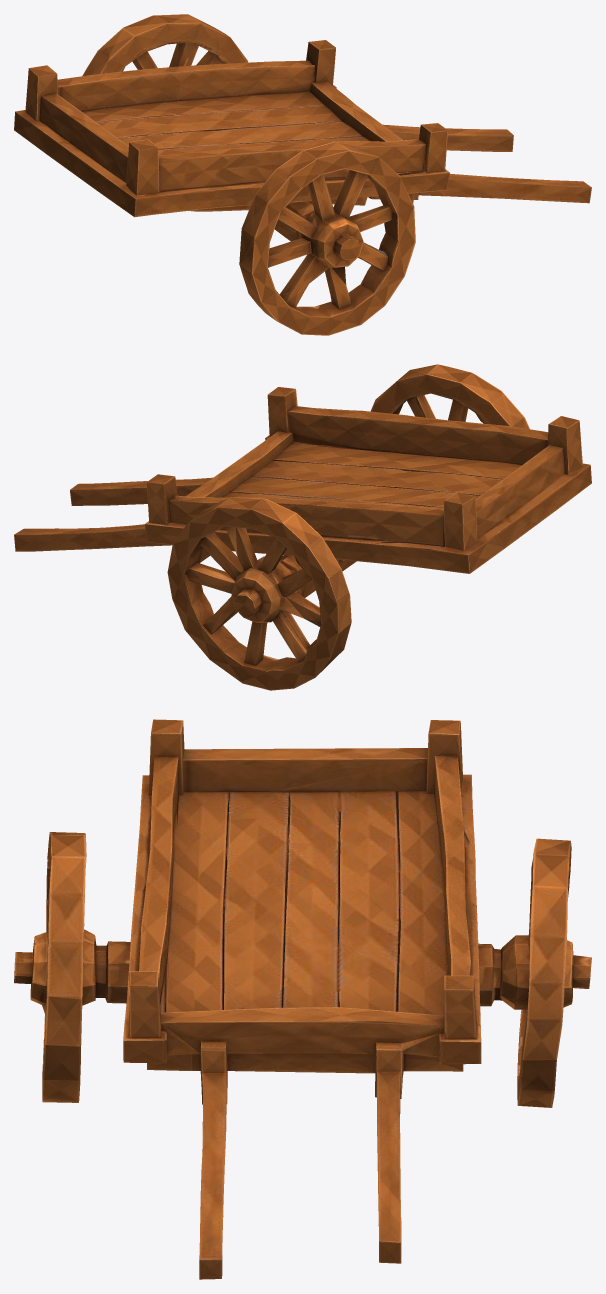
Rendered from cart.glb.
The picture shows the model from 3 angles, top to bottom: view 1: azimuth 30°, elevation 25°; view 2: azimuth 150°, elevation 25°; view 3: azimuth 270°, elevation 25°; orthographic projection. The views are drawn at different scales.
Bounding box in the file's own units: 1.9 × 0.7341 × 1.44.
Materials: 1 (1 with a texture image).
